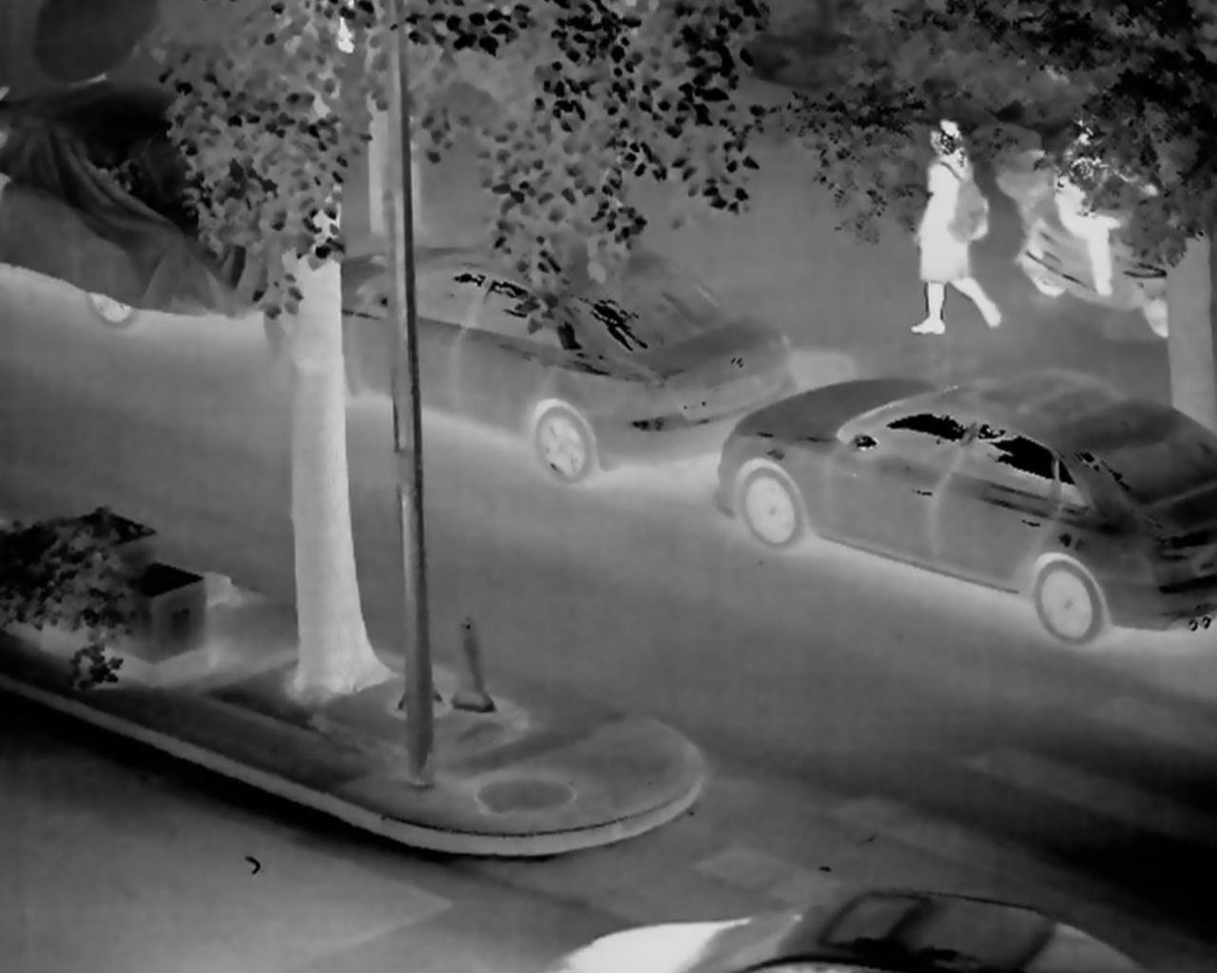person: (1042, 117, 1165, 301), (907, 121, 1006, 346)
